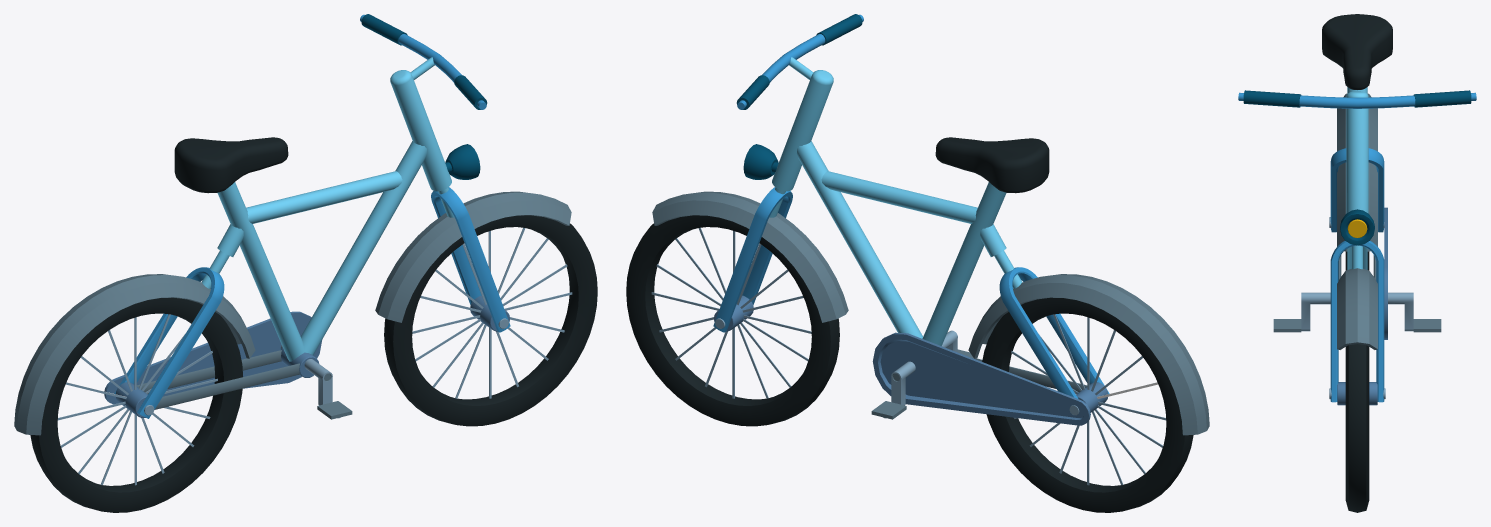
Rendered from Bicycle.fbx.
3 renders of one model, left to right at view 1: azimuth 30°, elevation 25°; view 2: azimuth 150°, elevation 25°; view 3: azimuth 270°, elevation 25°, orthographic.
Visible parts, largest first — view 1: Bicycle, BicycleWheelBack, BicycleWheelFront; view 2: Bicycle, BicycleWheelFront, BicycleWheelBack; view 3: Bicycle, BicycleWheelFront.
Part boxes in pixels (<box>): Bicycle: <box>14,14,571,435</box>; BicycleWheelBack: <box>30,297,242,512</box>; BicycleWheelFront: <box>384,215,597,426</box>; Bicycle: <box>652,14,1209,435</box>; BicycleWheelFront: <box>626,215,839,426</box>; BicycleWheelBack: <box>982,297,1193,512</box>; Bicycle: <box>1238,14,1476,402</box>; BicycleWheelFront: <box>1337,344,1377,512</box>.
Size of the model in its own units: 158 by 100 by 57.03.
